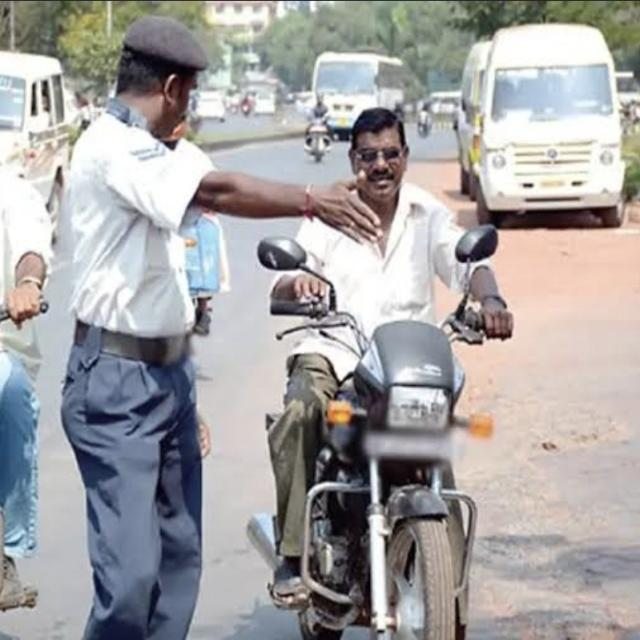WithoutHelmet: (266, 106, 514, 610)
